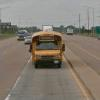Bus: (28, 30, 73, 71)
